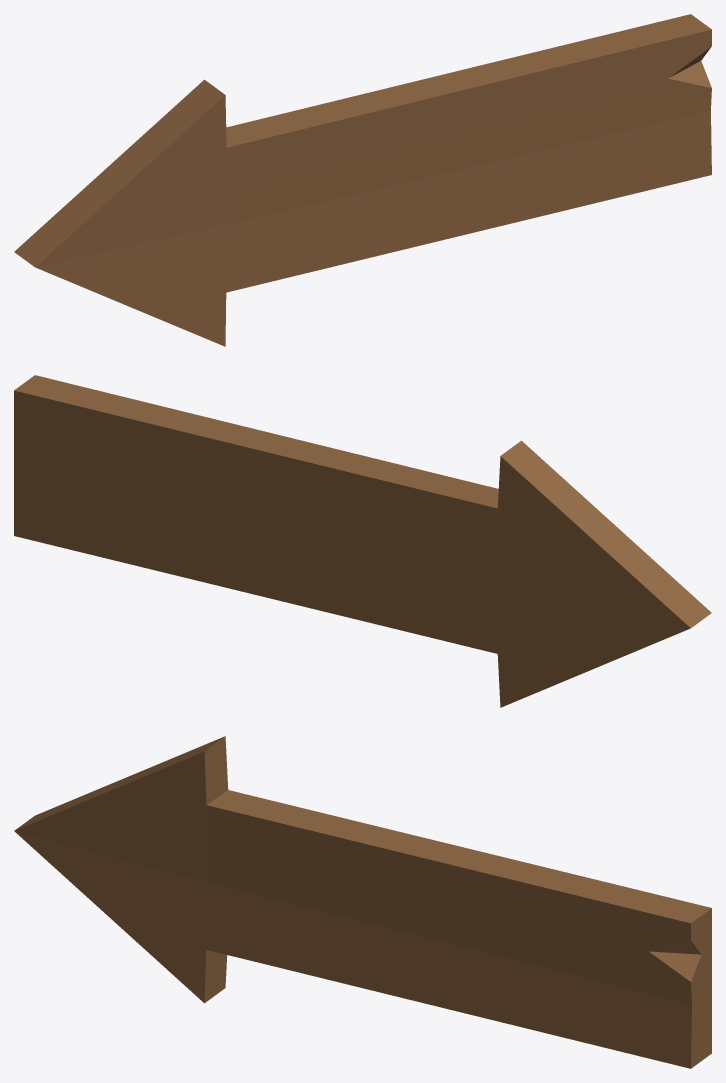
File: LowPolyArrow.fbx
3 views of the same model, one above another, from view 1: azimuth 30°, elevation 25°; view 2: azimuth 150°, elevation 25°; view 3: azimuth 330°, elevation 25° (orthographic).
Parts seen in each view (by area): view 1: ArrowSign; view 2: ArrowSign; view 3: ArrowSign.
Boxes of the visible parts, bbox=[...] form: ArrowSign: bbox=[14, 14, 711, 346]; ArrowSign: bbox=[14, 375, 711, 707]; ArrowSign: bbox=[14, 736, 711, 1068].
Bounding box in the file's own units: 220 × 78.4 × 11.88.
